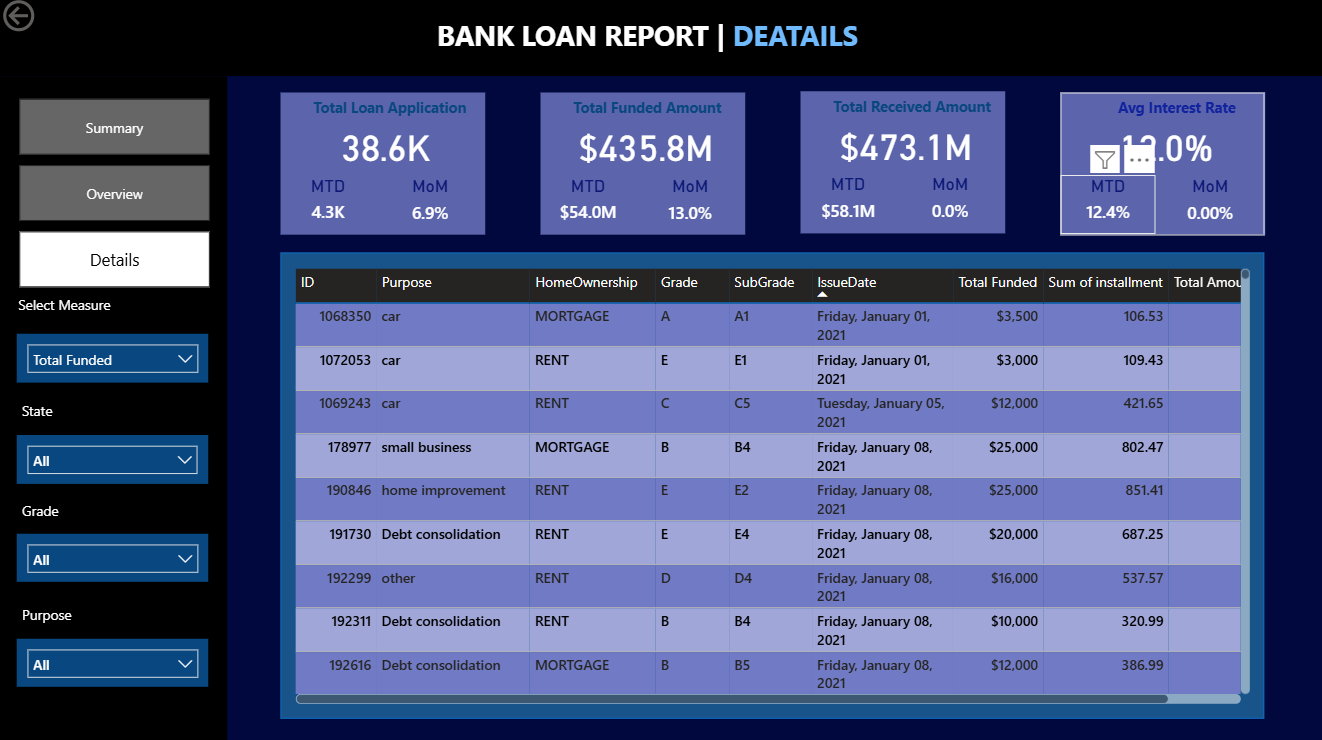

This screenshot's page, from the dashboard's own definition file:
{"tool":"powerbi","page":{"name":"Details","canvas":[1280,720],"ordinal":2},"visuals":[{"type":"shape","box":[0,78.8,221.2,641.2],"z":0},{"type":"shape","box":[774.4,93.3,197.6,137.2],"z":0,"group":"g3"},{"type":"shape","box":[273.1,94.7,197.6,137.2],"z":0,"group":"g1"},{"type":"shape","box":[523.7,94.7,197.6,137.2],"z":0,"group":"g2"},{"type":"shape","box":[1025,94.7,197.6,137.2],"z":0,"group":"g4"},{"type":"shape","box":[0,0,1280.3,78.2],"z":1000},{"type":"card","fields":{"Values":["bank_loan_data.Total Amount Received"]},"box":[792.2,116.6,167.4,56.3],"z":1000,"group":"g3"},{"type":"card","fields":{"Values":["bank_loan_data.Total Loan Application"]},"box":[290.9,118,167.4,56.3],"z":1000,"group":"g1"},{"type":"card","fields":{"Values":["bank_loan_data.Total Funded"]},"box":[541.5,118,167.4,56.3],"z":1000,"group":"g2"},{"type":"card","fields":{"Values":["bank_loan_data.Avg Interest Rate"]},"box":[1042.8,118,167.4,56.3],"z":1000,"group":"g4"},{"type":"textbox","box":[800.5,93.3,171.5,37],"z":2000,"group":"g3"},{"type":"textbox","box":[299.2,94.7,171.5,37],"z":2000,"group":"g1"},{"type":"textbox","box":[549.8,94.7,171.5,37],"z":2000,"group":"g2"},{"type":"textbox","box":[1051.1,94.7,171.5,37],"z":2000,"group":"g4"},{"type":"textbox","box":[17.5,387.5,56.2,37.5],"z":2000},{"type":"textbox","box":[418.5,15.1,441.9,45.3],"z":3000},{"type":"card","title":"MTD","fields":{"Values":["bank_loan_data.MTD Total Amount Recieved"]},"box":[774.4,172.9,91.9,56.3],"z":3000,"group":"g3"},{"type":"card","title":"MTD","fields":{"Values":["bank_loan_data.MTD Loan Application"]},"box":[273.1,174.3,91.9,56.3],"z":3000,"group":"g1"},{"type":"card","title":"MTD","fields":{"Values":["bank_loan_data.MTD Funded Amount"]},"box":[523.7,174.3,91.9,56.3],"z":3000,"group":"g2"},{"type":"card","title":"MTD","fields":{"Values":["bank_loan_data.MTD Avg Int Rate"]},"box":[1025,174.3,91.9,56.3],"z":3000,"group":"g4"},{"type":"group","id":"g1","title":"Group 1","box":[273.1,94.7,197.6,137.2],"z":4000},{"type":"card","title":"MoM","fields":{"Values":["bank_loan_data.MoM Total Recieved Amount"]},"box":[875.9,172.9,86.4,57.6],"z":4000,"group":"g3"},{"type":"card","title":"MoM","fields":{"Values":["bank_loan_data.MoM Loan Application"]},"box":[374.6,174.3,86.4,57.6],"z":4000,"group":"g1"},{"type":"card","title":"MoM","fields":{"Values":["bank_loan_data.MoM Total Funded Amount"]},"box":[625.2,174.3,86.4,57.6],"z":4000,"group":"g2"},{"type":"card","title":"MoM","fields":{"Values":["bank_loan_data.MoM Avg Int Rate"]},"box":[1126.5,174.3,86.4,57.6],"z":4000,"group":"g4"},{"type":"group","id":"g2","title":"Group 1","box":[523.7,94.7,197.6,137.2],"z":5000},{"type":"group","id":"g3","title":"Group 1","box":[774.4,93.3,197.6,137.2],"z":6000},{"type":"group","id":"g4","title":"Group 1","box":[1025,94.7,197.6,137.2],"z":7000},{"type":"slicer","fields":{"Values":["bank_loan_data.address_state"]},"box":[18.1,424.7,184.6,47.1],"z":8000},{"type":"slicer","fields":{"Values":["bank_loan_data.grade"]},"box":[17.5,520,185,46.2],"z":9000},{"type":"slicer","fields":{"Values":["bank_loan_data.purpose"]},"box":[17.5,621.2,185,46.2],"z":10000},{"type":"textbox","box":[17.5,483.8,61.2,37.5],"z":11000},{"type":"textbox","box":[17.5,583.8,93.8,37.5],"z":12000},{"type":"slicer","fields":{"Values":["Select Measure.Select Measure"]},"box":[17.5,327.5,185,47.5],"z":13000},{"type":"shape","box":[272.7,248.5,949.5,450],"z":14000},{"type":"textbox","box":[15,285,112.5,42.5],"z":15000},{"type":"tableEx","fields":{"Values":["bank_loan_data.id","bank_loan_data.purpose","bank_loan_data.home_ownership","bank_loan_data.grade","bank_loan_data.sub_grade","bank_loan_data.issue_date","bank_loan_data.Total Funded","Sum(bank_loan_data.installment)","bank_loan_data.Total Amount Received"]},"box":[281.1,259.4,932.6,429.5],"z":16000},{"type":"actionButton","box":[0,0,100,40],"z":17000},{"type":"pageNavigator","box":[20.5,100.1,184.6,184.6],"z":18000}]}

Visuals, with their boxes in screenshot pixels (x1, y1, x2, y2), scaled from the page's 1280x720 canvas onto the 1322x740 screenshot:
shape: [left=0, top=81, right=228, bottom=739]
shape: [left=800, top=96, right=1004, bottom=237]
shape: [left=282, top=97, right=486, bottom=238]
shape: [left=541, top=97, right=745, bottom=238]
shape: [left=1059, top=97, right=1263, bottom=238]
shape: [left=0, top=0, right=1321, bottom=80]
card - bank_loan_data.Total Amount Received: [left=818, top=120, right=991, bottom=178]
card - bank_loan_data.Total Loan Application: [left=300, top=121, right=473, bottom=179]
card - bank_loan_data.Total Funded: [left=559, top=121, right=732, bottom=179]
card - bank_loan_data.Avg Interest Rate: [left=1077, top=121, right=1250, bottom=179]
textbox: [left=827, top=96, right=1004, bottom=134]
textbox: [left=309, top=97, right=486, bottom=135]
textbox: [left=568, top=97, right=745, bottom=135]
textbox: [left=1086, top=97, right=1263, bottom=135]
textbox: [left=18, top=398, right=76, bottom=437]
textbox: [left=432, top=16, right=889, bottom=62]
"MTD" card: [left=800, top=178, right=895, bottom=236]
"MTD" card: [left=282, top=179, right=377, bottom=237]
"MTD" card: [left=541, top=179, right=636, bottom=237]
"MTD" card: [left=1059, top=179, right=1154, bottom=237]
"Group 1" group: [left=282, top=97, right=486, bottom=238]
"MoM" card: [left=905, top=178, right=994, bottom=237]
"MoM" card: [left=387, top=179, right=476, bottom=238]
"MoM" card: [left=646, top=179, right=735, bottom=238]
"MoM" card: [left=1163, top=179, right=1253, bottom=238]
"Group 1" group: [left=541, top=97, right=745, bottom=238]
"Group 1" group: [left=800, top=96, right=1004, bottom=237]
"Group 1" group: [left=1059, top=97, right=1263, bottom=238]
slicer - bank_loan_data.address_state: [left=19, top=436, right=209, bottom=485]
slicer - bank_loan_data.grade: [left=18, top=534, right=209, bottom=582]
slicer - bank_loan_data.purpose: [left=18, top=638, right=209, bottom=686]
textbox: [left=18, top=497, right=81, bottom=536]
textbox: [left=18, top=600, right=115, bottom=639]
slicer - Select Measure.Select Measure: [left=18, top=337, right=209, bottom=385]
shape: [left=282, top=255, right=1262, bottom=718]
textbox: [left=15, top=293, right=132, bottom=337]
tableEx - bank_loan_data.id x bank_loan_data.purpose: [left=290, top=267, right=1254, bottom=708]
actionButton: [left=0, top=0, right=103, bottom=41]
pageNavigator: [left=21, top=103, right=212, bottom=293]
